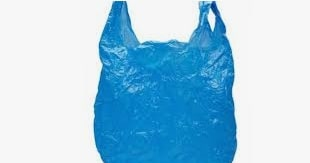kantong: (93, 0, 238, 162)
